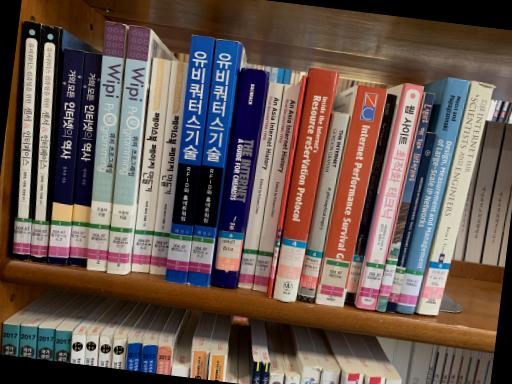book-spine: (416, 79, 494, 314), (396, 77, 471, 313), (314, 84, 388, 308), (356, 82, 424, 310), (274, 67, 339, 302), (376, 92, 434, 311), (187, 38, 238, 287), (212, 68, 269, 288), (166, 35, 215, 285), (344, 93, 398, 305), (107, 24, 151, 275), (86, 20, 127, 270), (297, 112, 349, 302), (253, 84, 300, 291), (238, 82, 284, 289), (386, 132, 435, 313), (131, 57, 172, 272), (268, 76, 306, 297), (150, 60, 188, 274), (48, 48, 84, 264), (69, 52, 102, 267), (30, 24, 59, 262), (13, 20, 40, 261)
